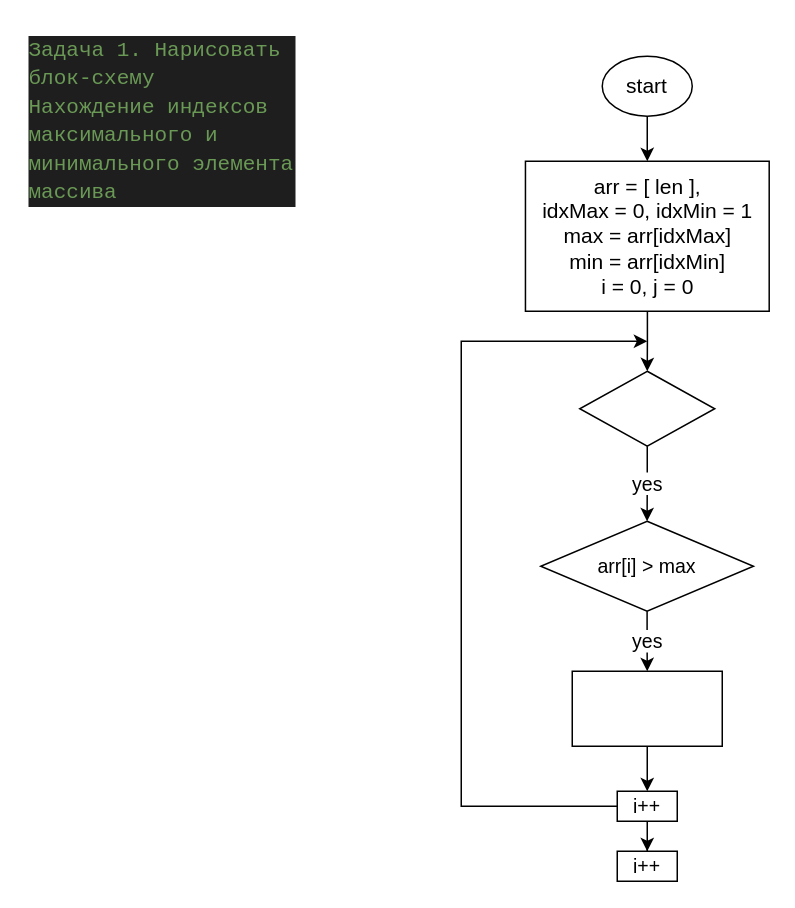
Some shapes in this 795 by 908 pixel diagram are drawn without their labels. The centre of each missing label's shape, as x and y in pixels:
i < len: the point at 646,408
max = arr[i] idxMax = i: the point at 646,708
